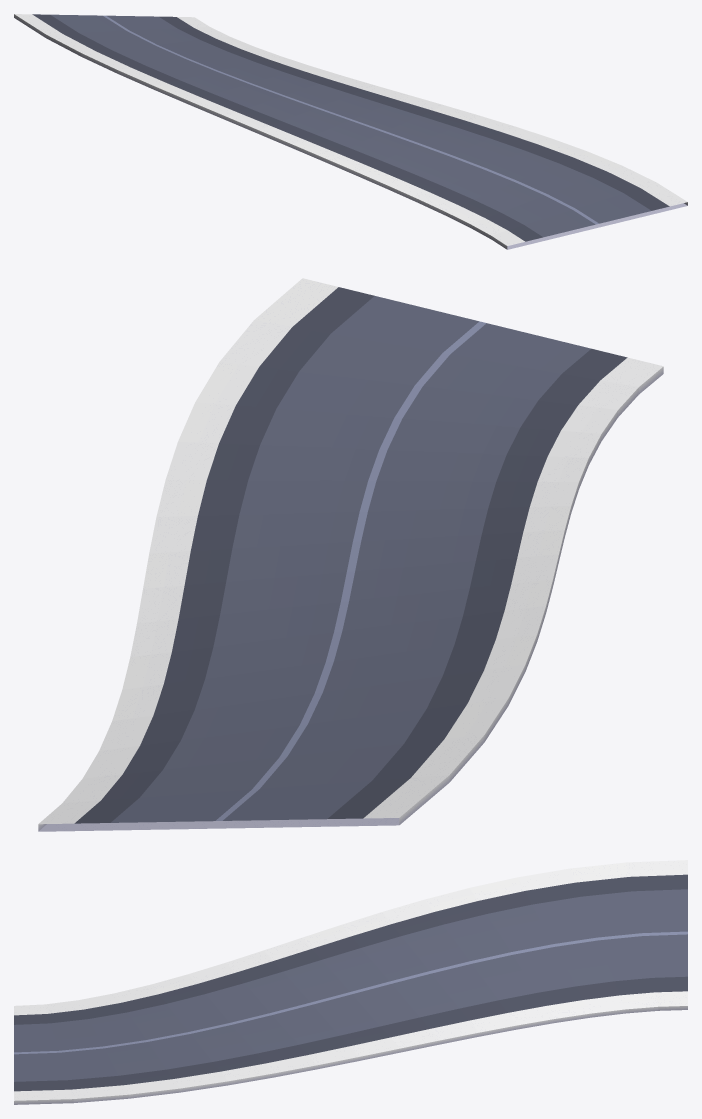
Rendered from road-Chicane-Flat-HalfBankedRight-Even-Left1-Size3.glb.
The picture shows the model from 3 angles, top to bottom: view 1: azimuth 30°, elevation 25°; view 2: azimuth 150°, elevation 25°; view 3: azimuth 270°, elevation 25°; orthographic projection. The views are drawn at different scales.
Parts seen in each view (by area): view 1: road-Chicane-Flat-HalfBankedRight-Even-Left1-Size3; view 2: road-Chicane-Flat-HalfBankedRight-Even-Left1-Size3; view 3: road-Chicane-Flat-HalfBankedRight-Even-Left1-Size3.
Part boxes in pixels (<box>): road-Chicane-Flat-HalfBankedRight-Even-Left1-Size3: <box>14,14,687,249</box>; road-Chicane-Flat-HalfBankedRight-Even-Left1-Size3: <box>38,278,663,831</box>; road-Chicane-Flat-HalfBankedRight-Even-Left1-Size3: <box>14,860,687,1104</box>.
Size of the model in its own units: 2 by 0.27 by 3.
1 material, 1 textured.
